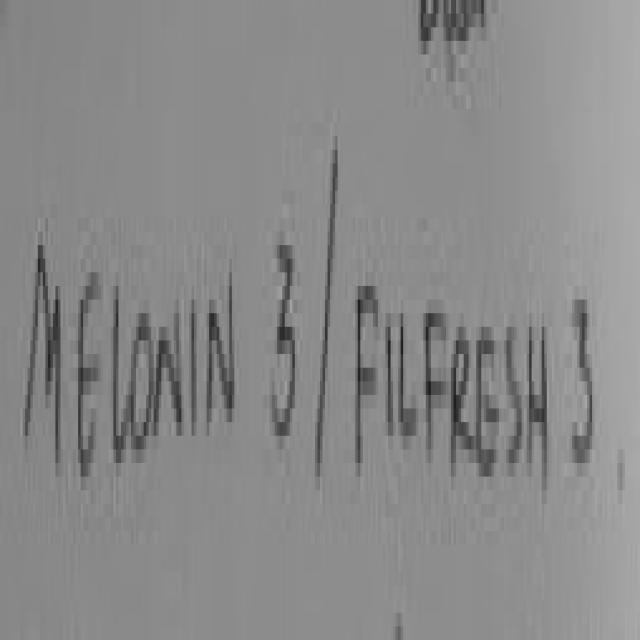3: (269, 218, 296, 447), (572, 298, 595, 463)
E: (78, 272, 98, 500), (475, 333, 498, 474)
F: (358, 286, 378, 475), (426, 313, 447, 484)
H: (528, 321, 549, 483)
I: (192, 290, 201, 434), (388, 327, 393, 444)
L: (400, 300, 422, 441), (113, 286, 131, 456)
M: (25, 245, 60, 456)
N: (208, 272, 232, 422), (155, 313, 181, 436)
O: (131, 313, 154, 443)
R: (450, 315, 477, 492)
S: (509, 327, 524, 456)
